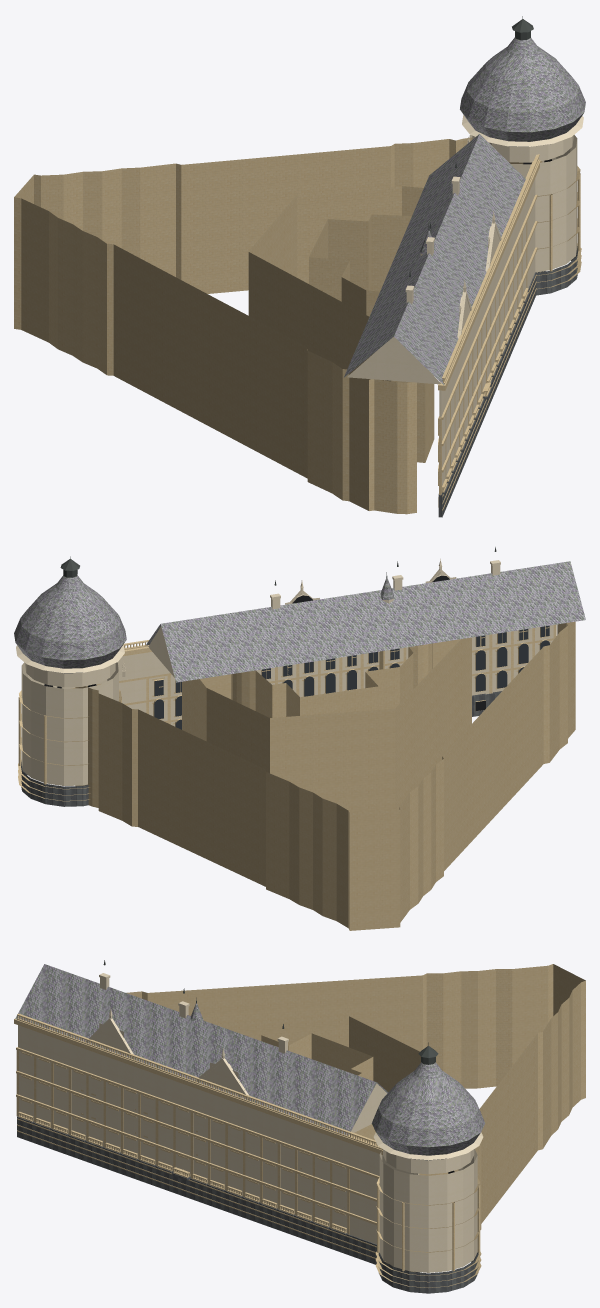
3 renders of one model, top to bottom at view 1: azimuth 30°, elevation 25°; view 2: azimuth 150°, elevation 25°; view 3: azimuth 270°, elevation 25°, orthographic. The views are drawn at different scales.
Parts seen in each view (by area): view 1: bldg_12470557_landmark; view 2: bldg_12470557_landmark; view 3: bldg_12470557_landmark.
Part boxes in pixels (box(x1,y1,x2,y2)): bldg_12470557_landmark: box(14, 16, 585, 517); bldg_12470557_landmark: box(14, 547, 585, 930); bldg_12470557_landmark: box(14, 960, 585, 1293).
Bounding box in the file's own units: 72.71 × 36.35 × 81.65.
Materials: 9 (5 with a texture image).
